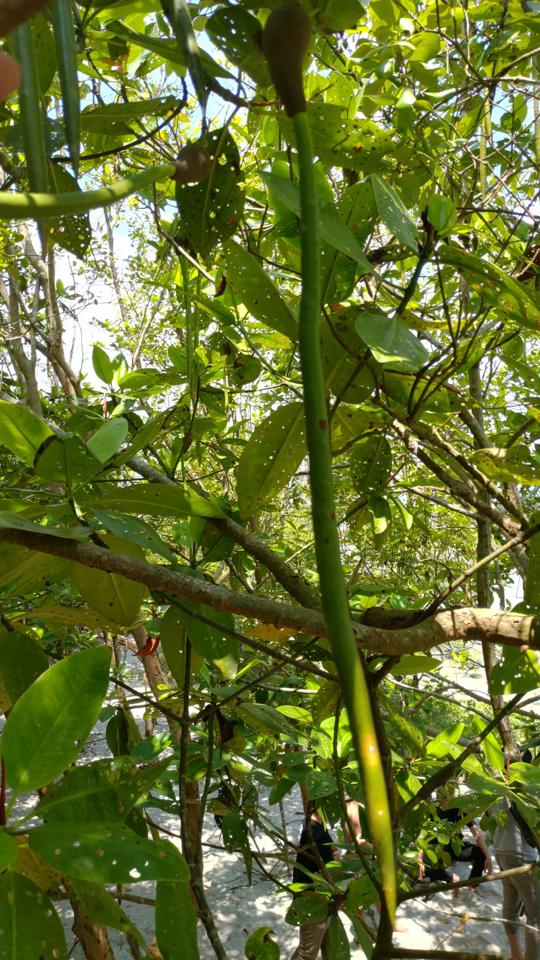mentah: (238, 1, 424, 932)
